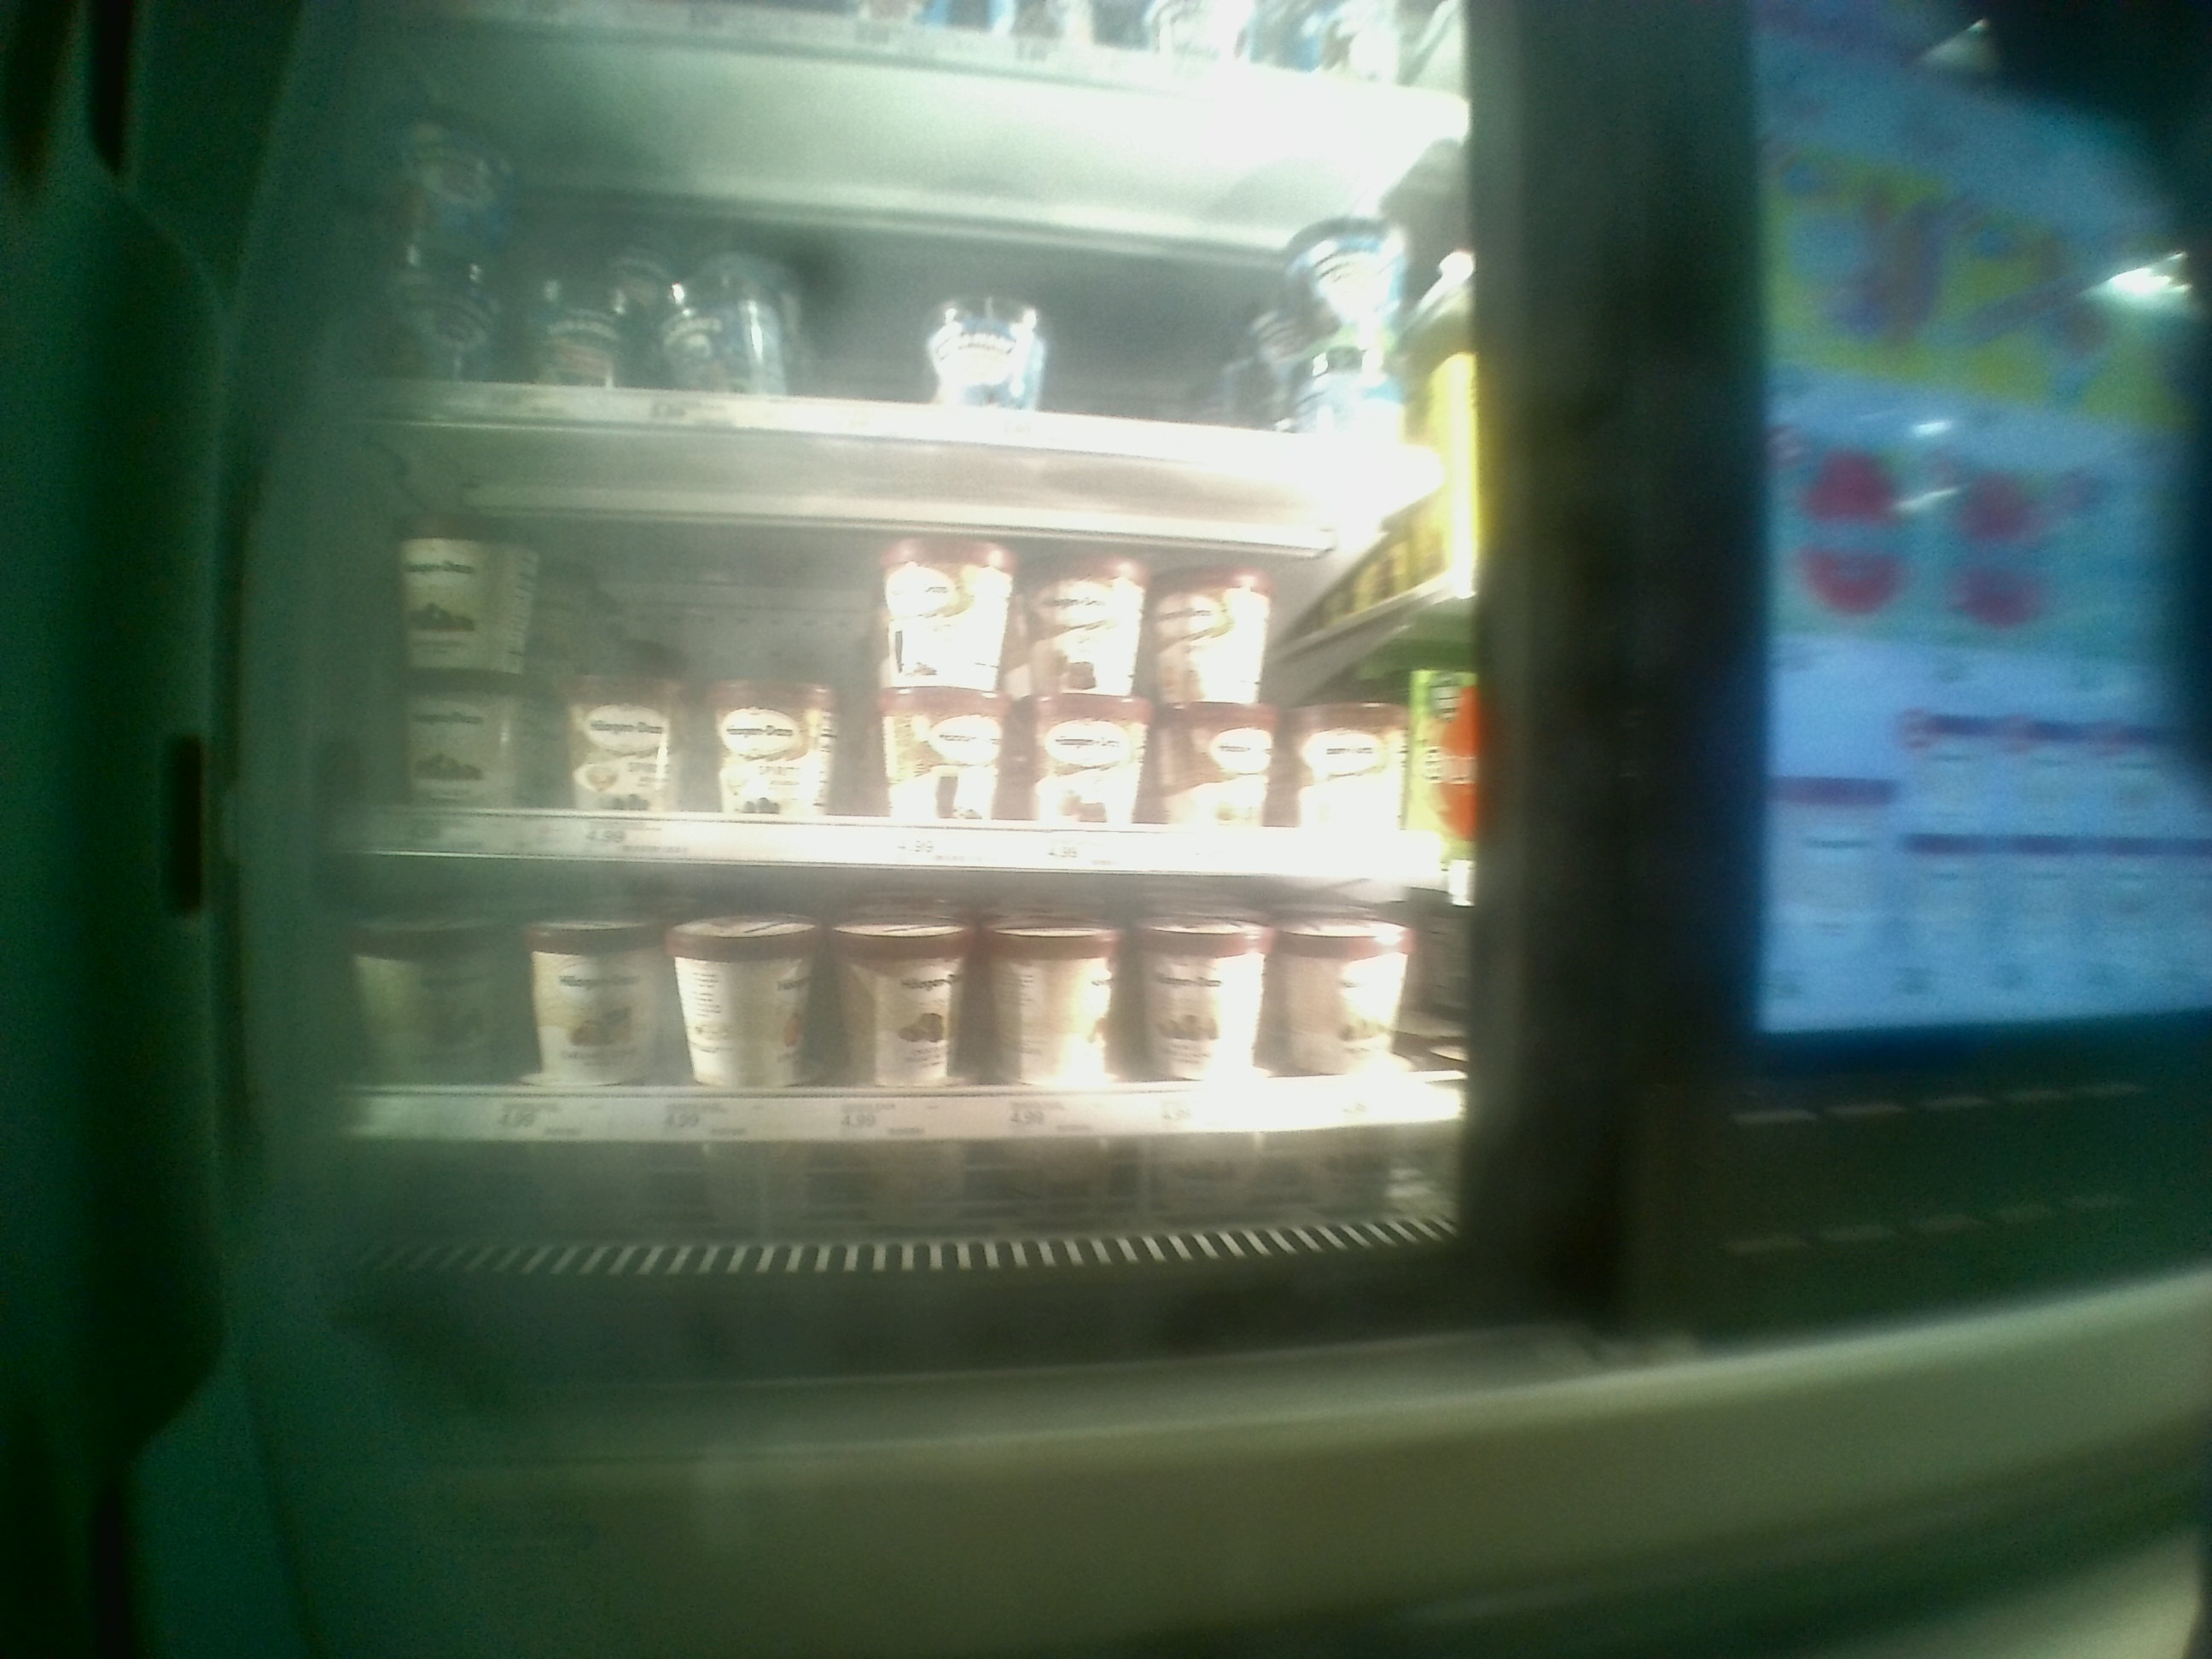shelf: (348, 462, 1446, 889)
